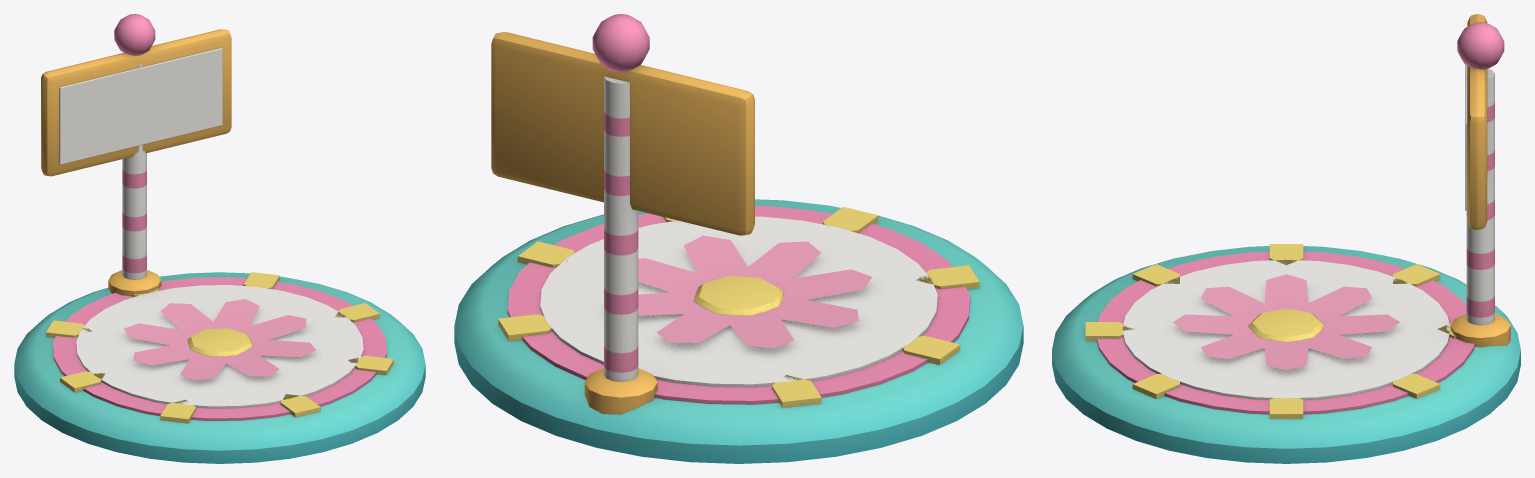
File: dash_ready_pad.fbx
3 renders of one model, left to right at view 1: azimuth 30°, elevation 25°; view 2: azimuth 150°, elevation 25°; view 3: azimuth 270°, elevation 25°, orthographic. The views are drawn at different scales.
Visible parts, largest first — view 1: dash_ready_pad; view 2: dash_ready_pad; view 3: dash_ready_pad.
Boxes of the visible parts, bbox=[...] form: dash_ready_pad: bbox=[14, 14, 425, 463]; dash_ready_pad: bbox=[454, 14, 1023, 463]; dash_ready_pad: bbox=[1052, 14, 1520, 463].
Bounding box in the file's own units: 1400 × 1122 × 1400.
Materials: 1 (1 with a texture image).
